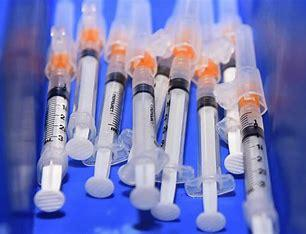Syringe: (169, 7, 230, 227), (229, 18, 282, 234), (123, 9, 164, 212), (32, 8, 72, 212)
